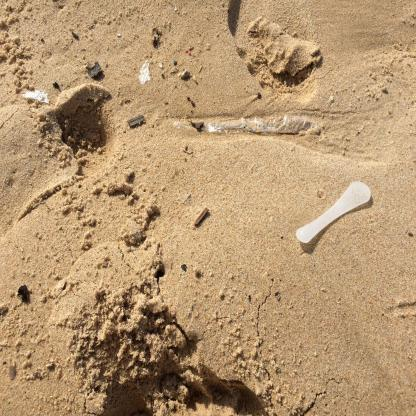plastik: (297, 182, 372, 246)
